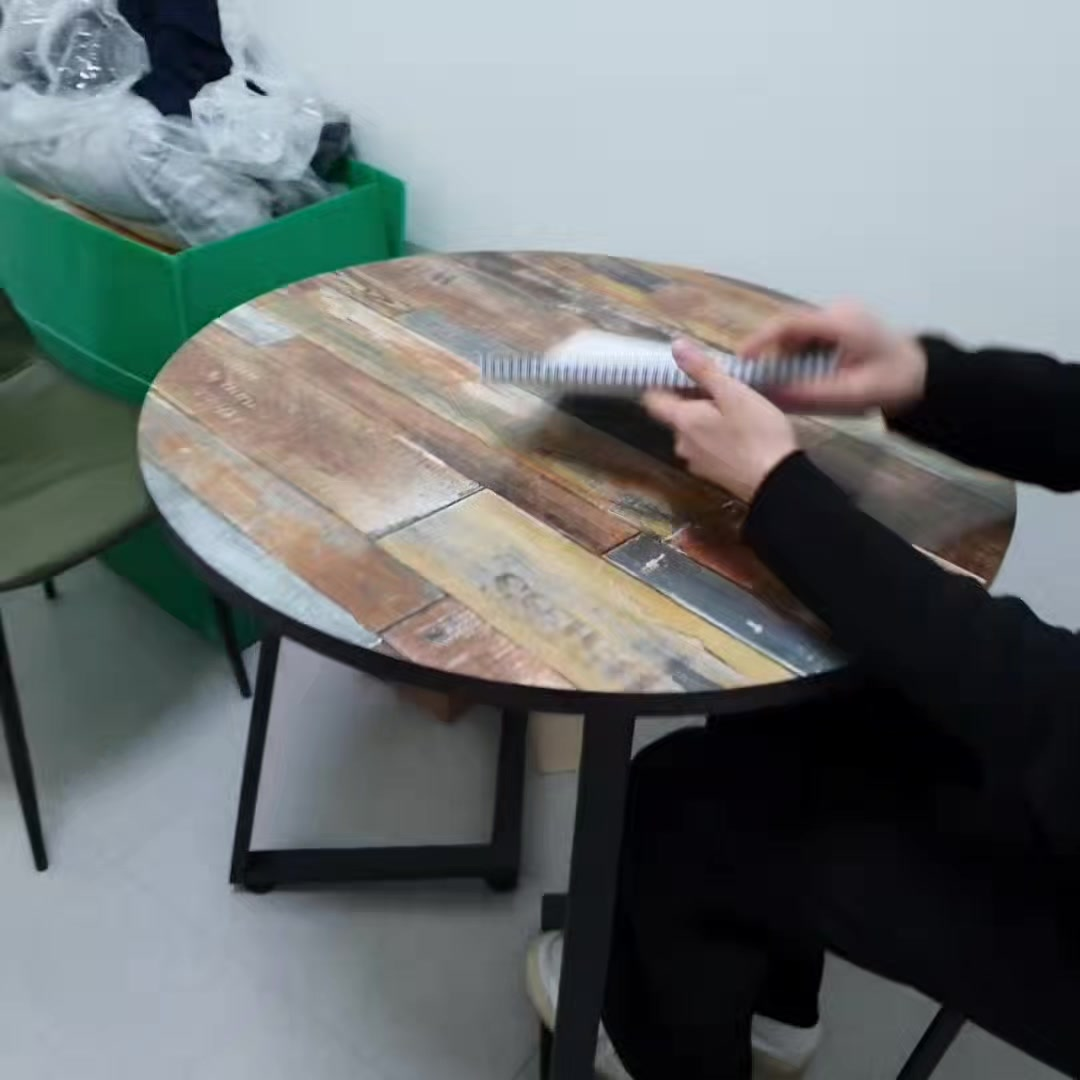book: (478, 308, 853, 406)
